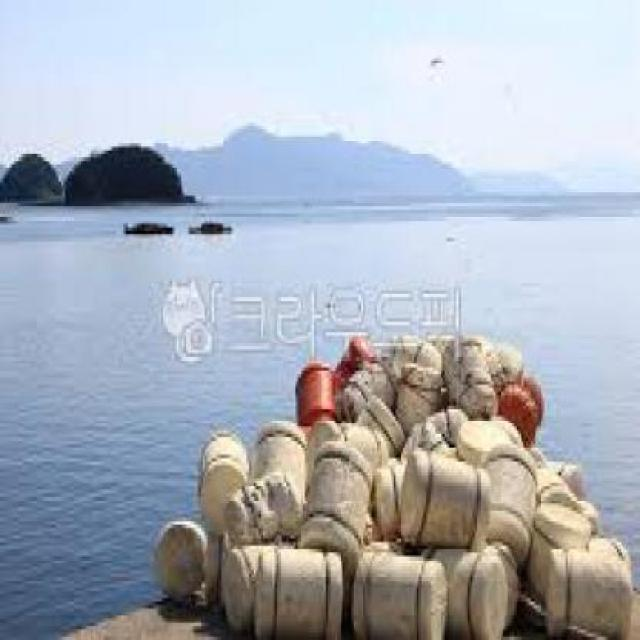a: (236, 490, 493, 627), (248, 435, 522, 561), (208, 369, 397, 512), (364, 371, 546, 505)
